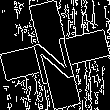N_N: (30, 26, 80, 84)
